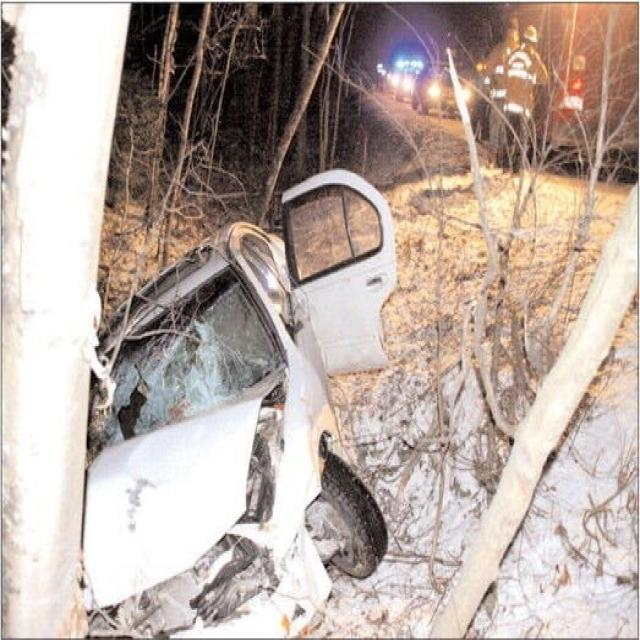Accident: (76, 168, 396, 623)
